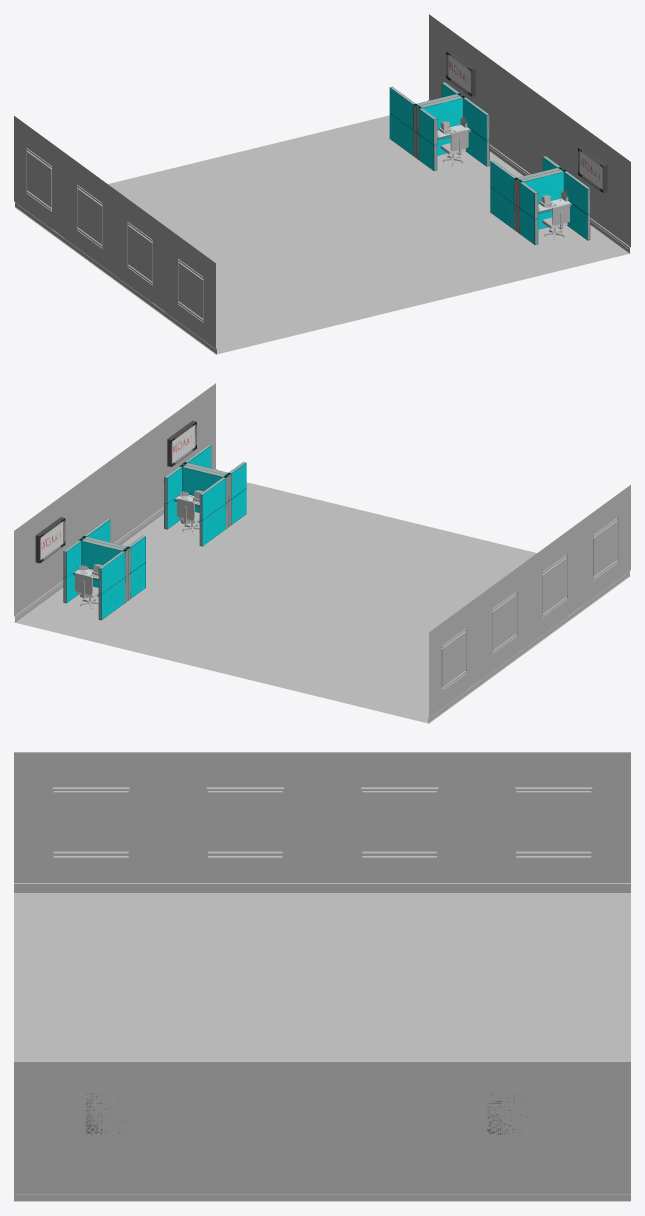
Rendered from CorredorDecoradoUnificado.fbx.
3 renders of one model, top to bottom at view 1: azimuth 30°, elevation 25°; view 2: azimuth 150°, elevation 25°; view 3: azimuth 270°, elevation 25°, orthographic. The views are drawn at different scales.
Parts seen in each view (by area): view 1: Hall; view 2: Hall; view 3: Hall.
Boxes of the visible parts, <box> form: Hall: <box>14,14,630,354</box>; Hall: <box>14,383,630,723</box>; Hall: <box>14,752,630,1201</box>.
Size of the model in its own units: 1901 by 400 by 1600.
